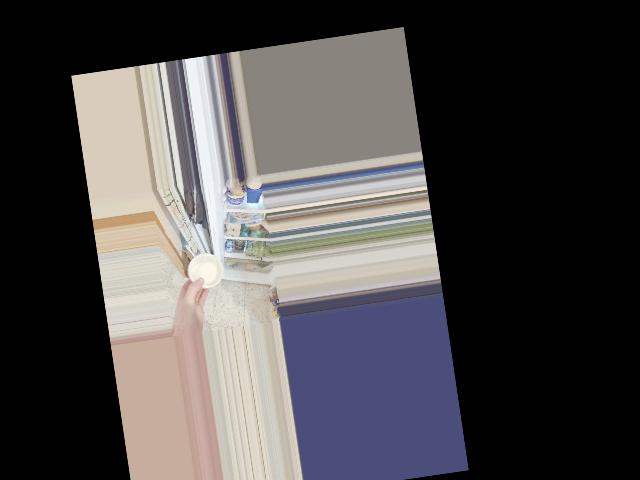cotage: (184, 248, 225, 289)
